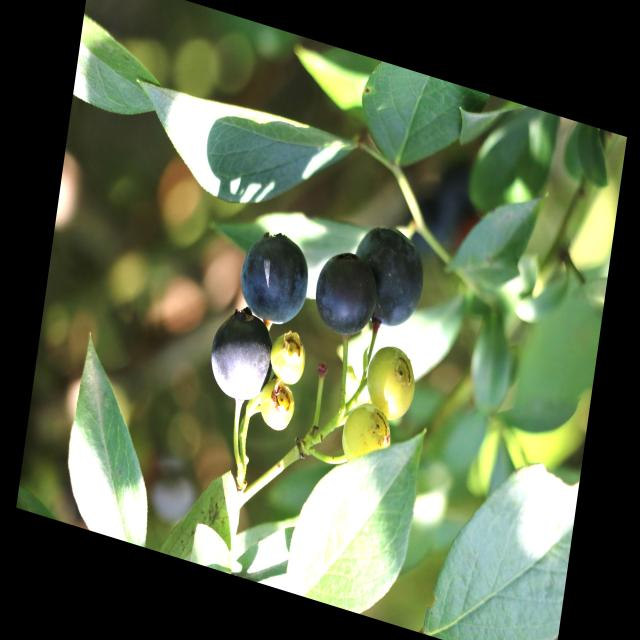blueberry: (198, 297, 281, 419), (345, 218, 430, 337), (235, 220, 315, 335), (310, 240, 384, 348)
blueberry-unripe: (361, 340, 420, 428), (337, 399, 393, 477), (253, 370, 298, 439), (265, 327, 311, 392)
